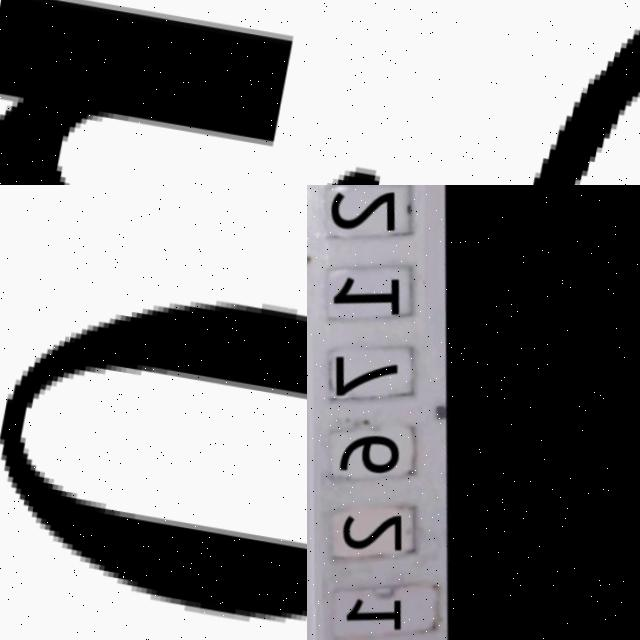0: (0, 250, 307, 640)
1: (317, 250, 417, 330), (328, 572, 422, 640)
2: (326, 490, 422, 565), (310, 185, 416, 246)
3: (307, 0, 640, 185)
6: (320, 410, 423, 488)
7: (317, 329, 420, 410)
M: (0, 0, 301, 185)
